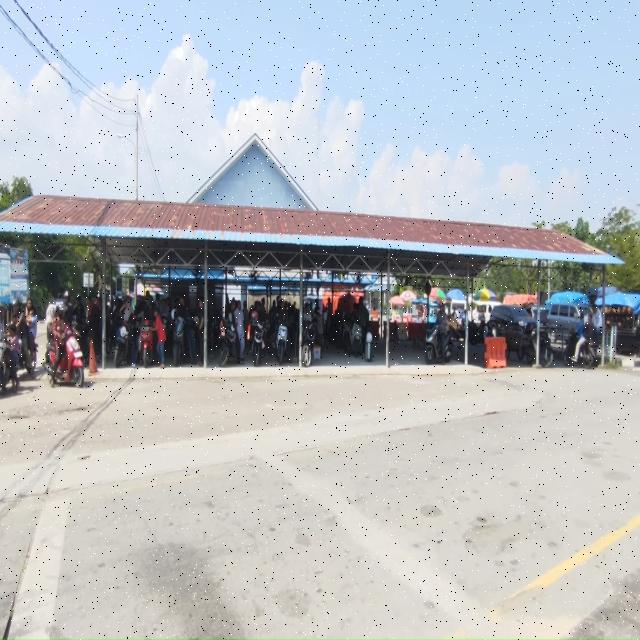Golongan II: (44, 330, 84, 388), (517, 326, 554, 368), (563, 329, 596, 368), (425, 327, 452, 365), (0, 336, 17, 393), (219, 319, 237, 367), (114, 321, 130, 368), (302, 319, 317, 367), (140, 318, 154, 368), (172, 317, 186, 367), (185, 315, 199, 365), (251, 319, 265, 366), (17, 339, 34, 377), (339, 316, 354, 353), (276, 324, 288, 365), (468, 320, 486, 346), (350, 322, 362, 357)
